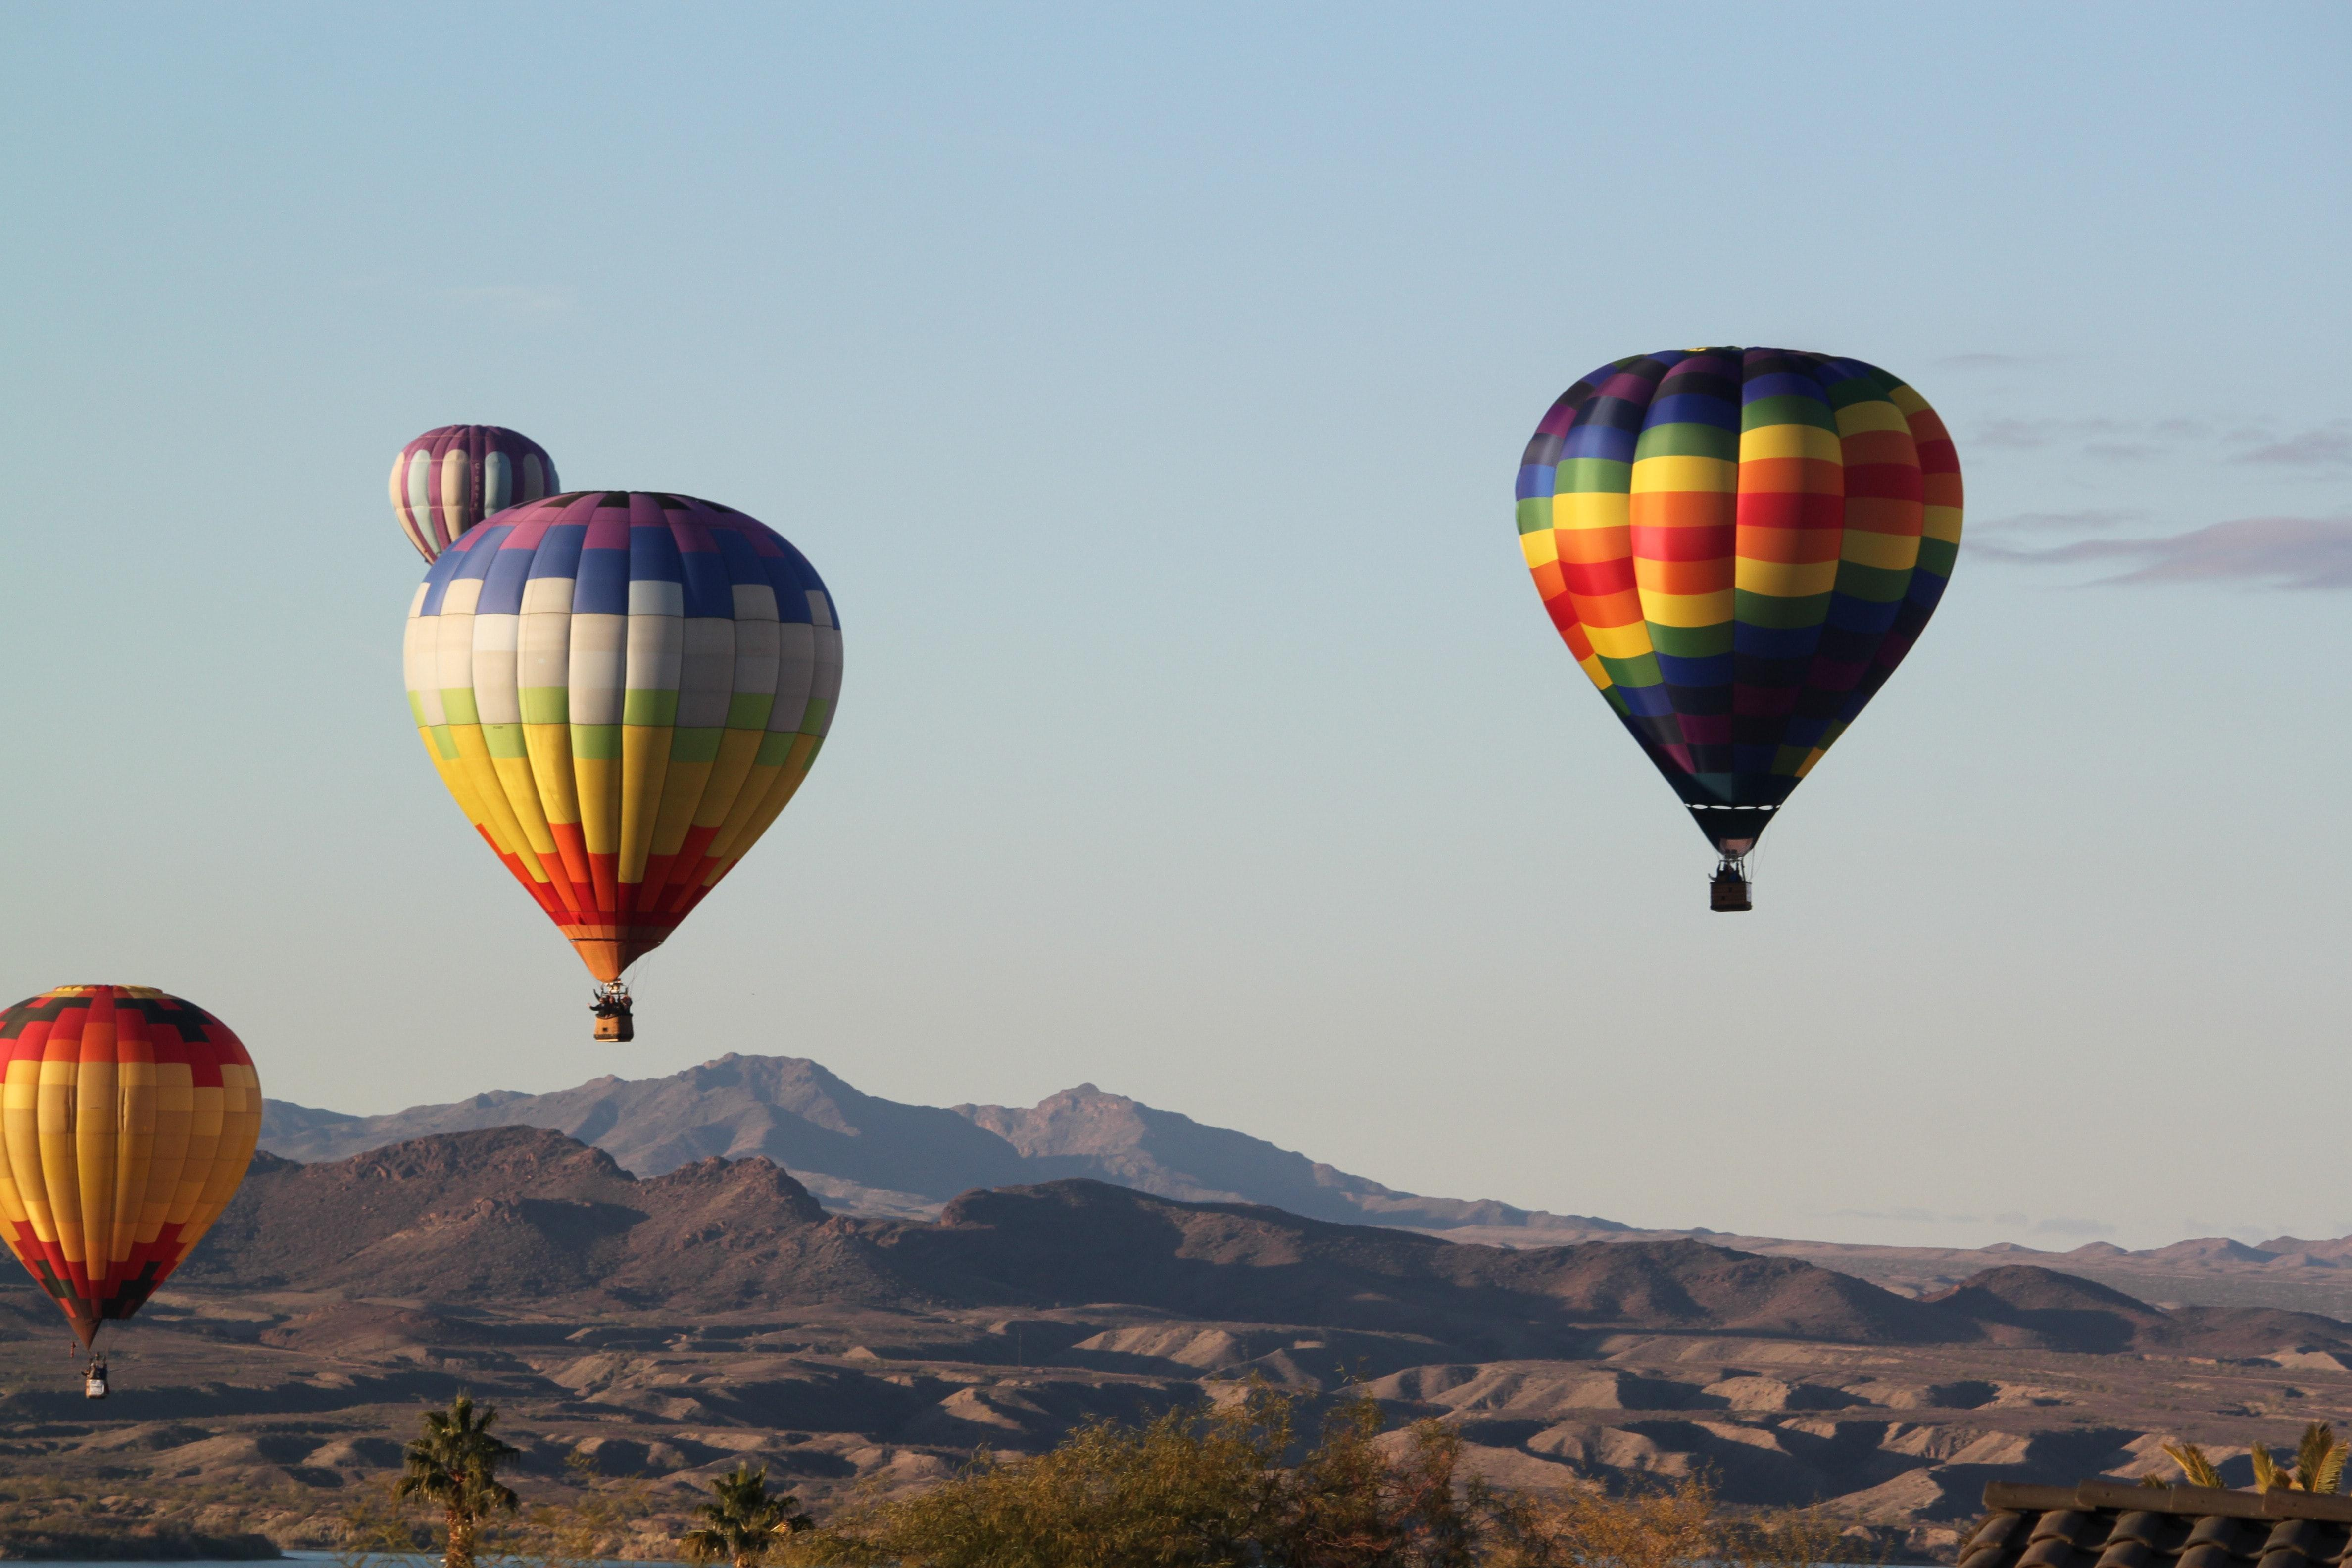hot air ballon: (1515, 343, 1967, 910), (404, 493, 847, 1043), (0, 982, 264, 1396), (390, 425, 562, 565)
